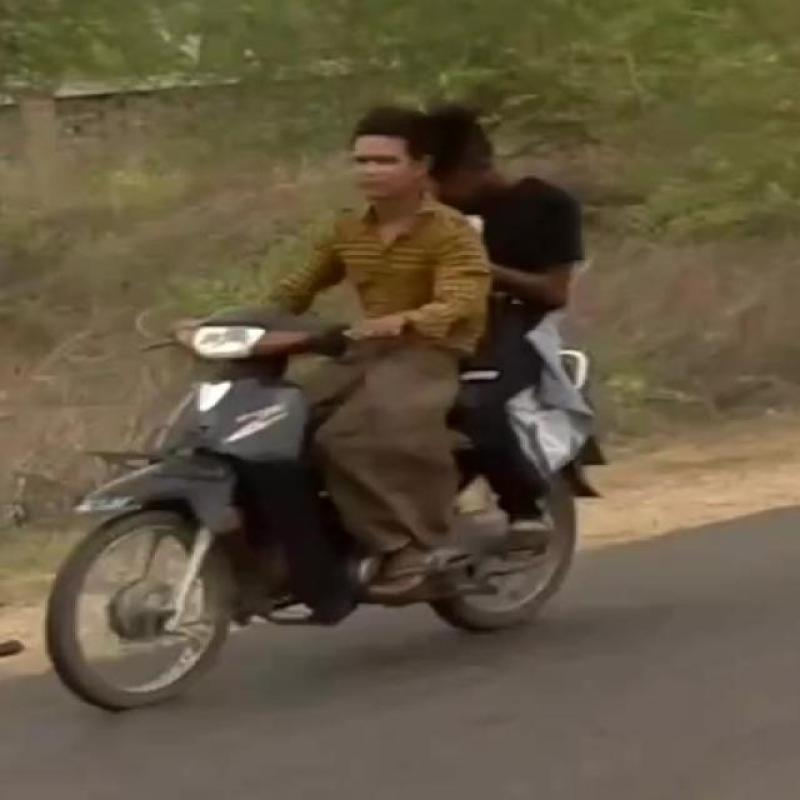nohelmet: (303, 104, 436, 201)
